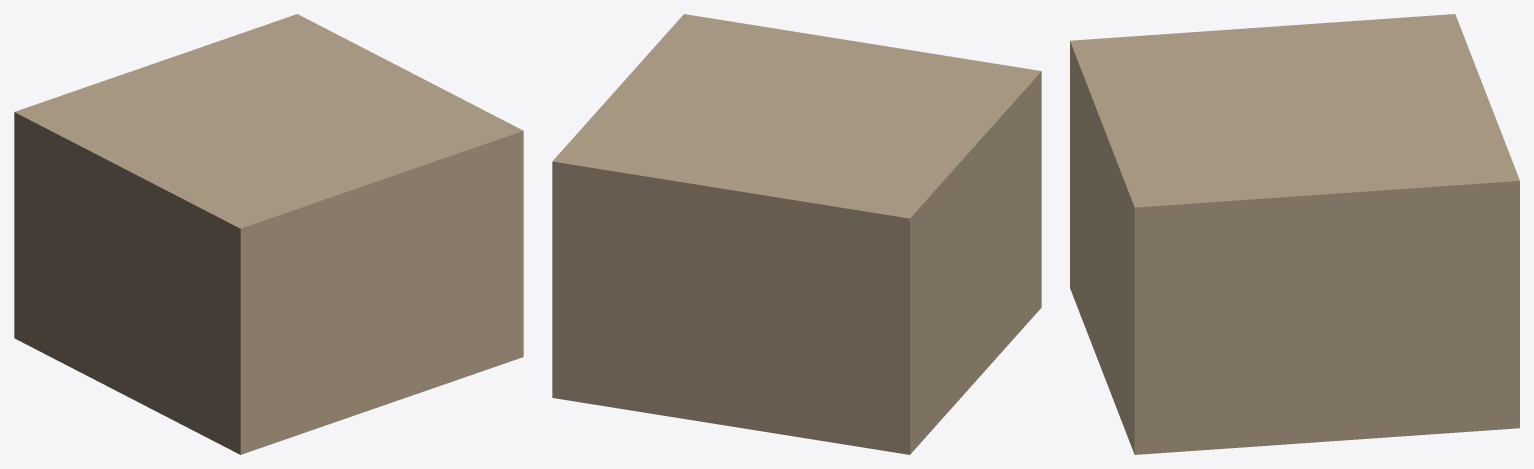
File: bld_98493086.dae
3 views of the same model, side by side, from view 1: azimuth 30°, elevation 25°; view 2: azimuth 150°, elevation 25°; view 3: azimuth 270°, elevation 25° (orthographic). The views are drawn at different scales.
Parts seen in each view (by area): view 1: Hair Media; view 2: Hair Media; view 3: Hair Media.
Boxes of the visible parts, x1=… form: Hair Media: x1=14, y1=14, x2=523, y2=454; Hair Media: x1=552, y1=14, x2=1041, y2=454; Hair Media: x1=1070, y1=14, x2=1519, y2=454.
Size of the model in its own units: 10.07 by 9.89 by 6.
